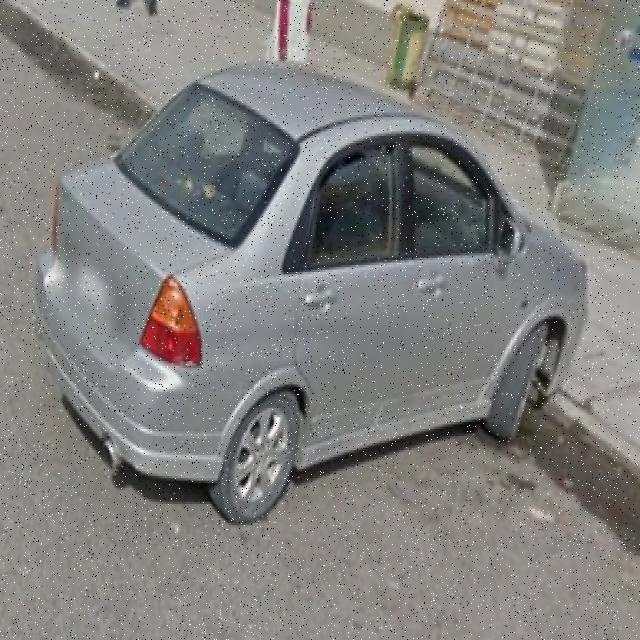cars: (34, 30, 591, 518)
